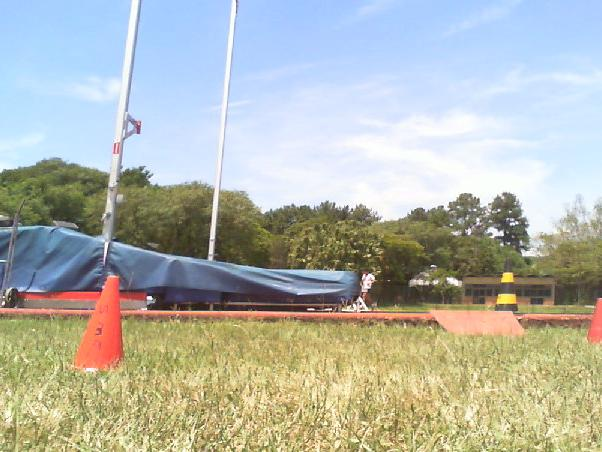0 cone: (71, 276, 124, 371), (494, 258, 526, 314), (587, 297, 602, 343)
